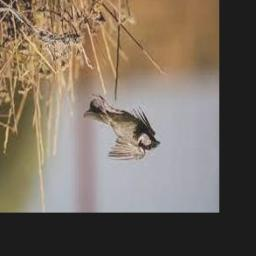Sparrow: (83, 94, 160, 161)
